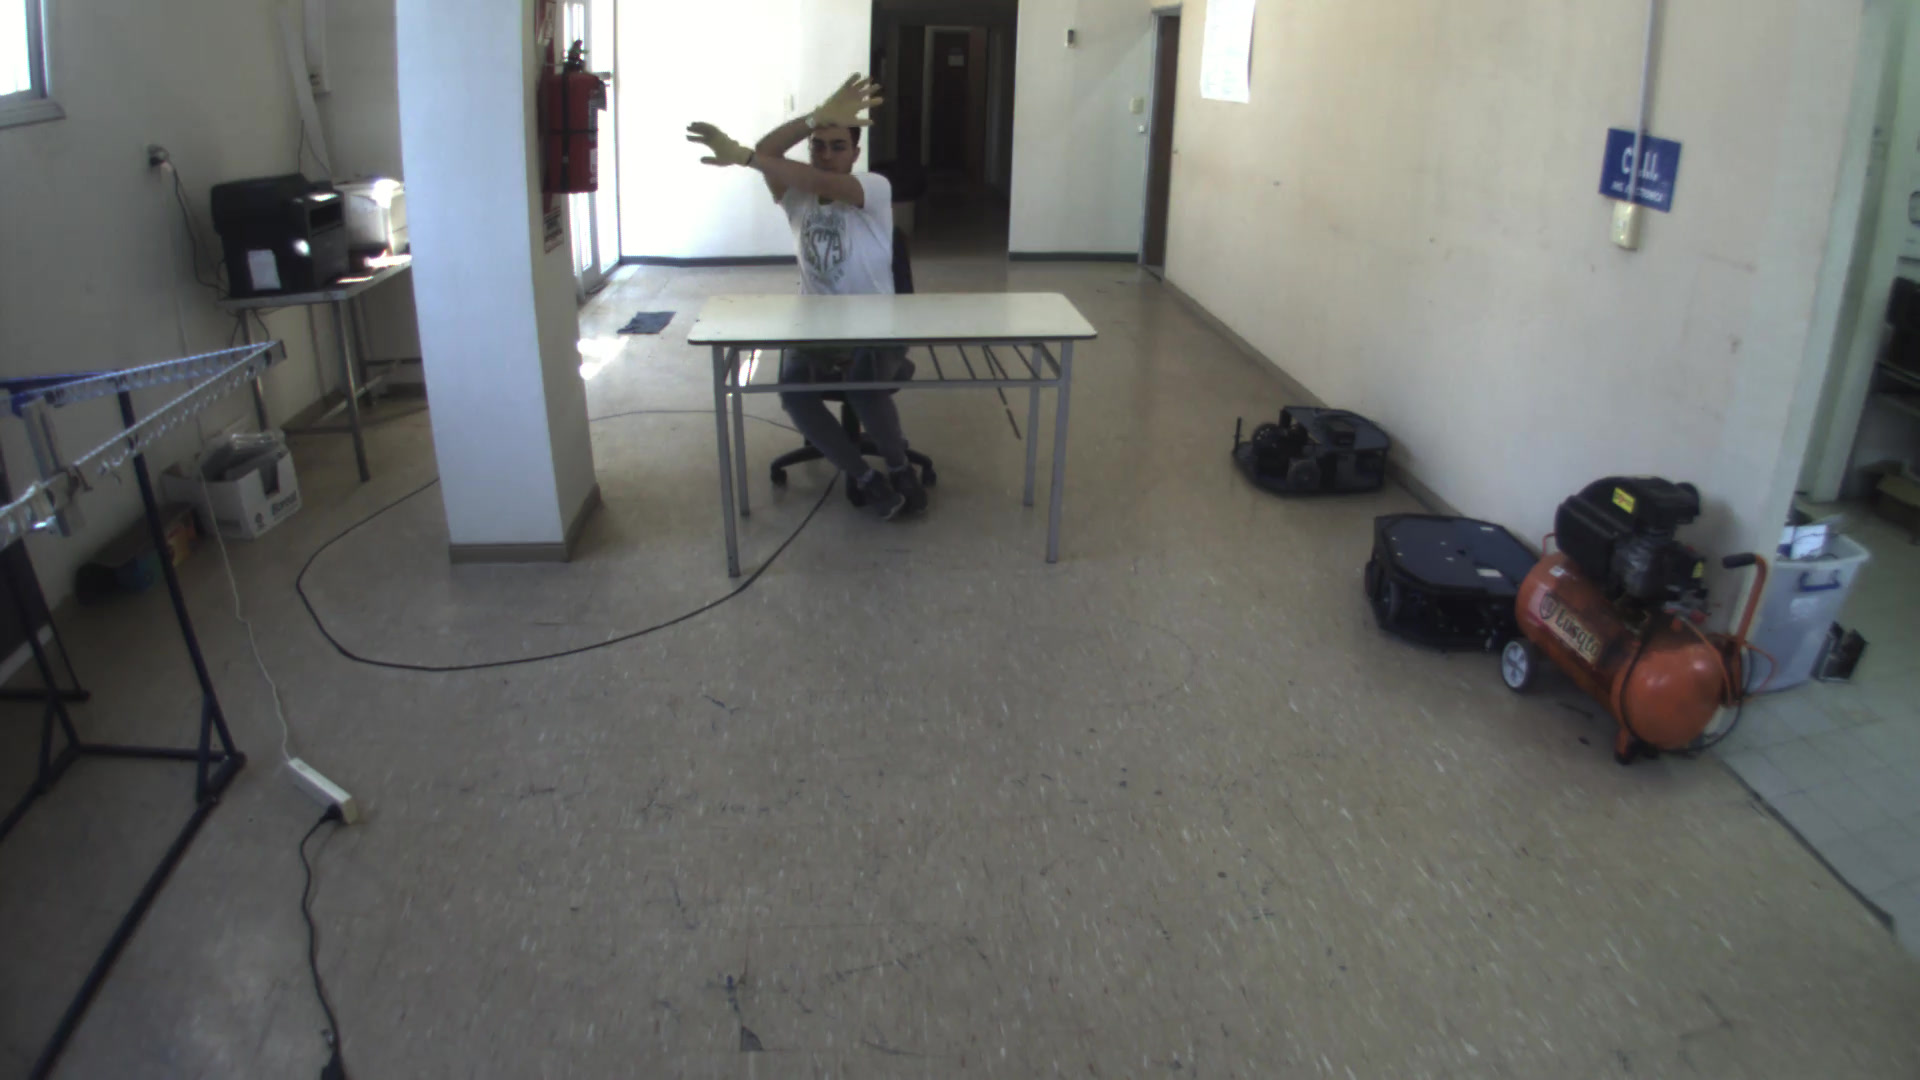hand: (806, 63, 894, 153), (679, 115, 760, 178)
